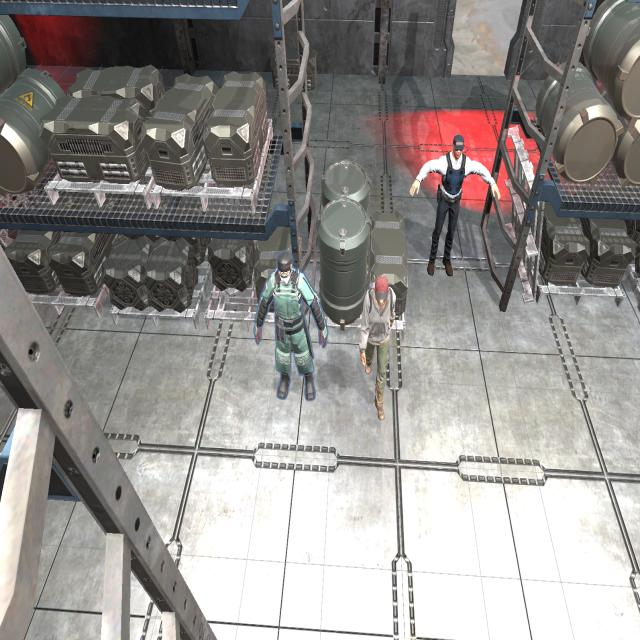thiefs: (358, 271, 398, 425)
